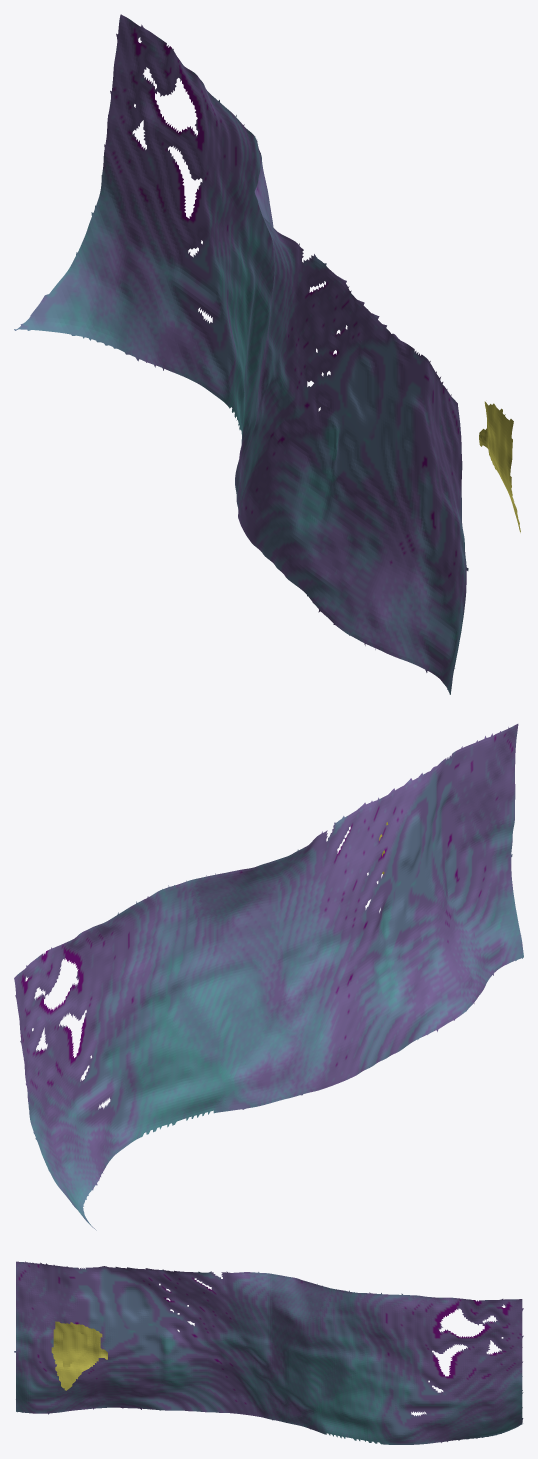
File: crop1031_gap.glb
The picture shows the model from 3 angles, top to bottom: view 1: azimuth 30°, elevation 25°; view 2: azimuth 150°, elevation 25°; view 3: azimuth 270°, elevation 25°; orthographic projection. The views are drawn at different scales.
Visible parts, largest first — view 1: world; view 2: world; view 3: world.
Boxes of the visible parts, box(x1,y1,x2,y2) form: world: box(14, 14, 520, 694); world: box(14, 724, 523, 1230); world: box(14, 1261, 523, 1444).
Size of the model in its own units: 891 by 1455 by 4334.
